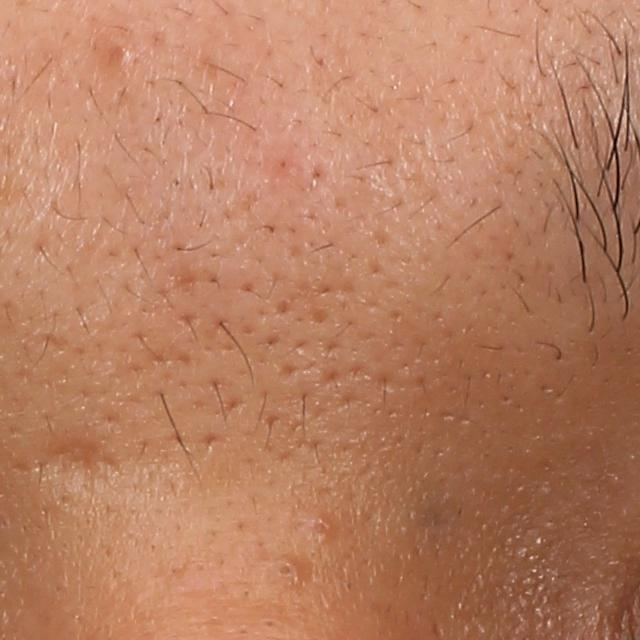atrophic_scar: (34, 430, 121, 484)
comedo: (301, 516, 339, 549), (103, 41, 137, 70), (269, 556, 303, 585)
